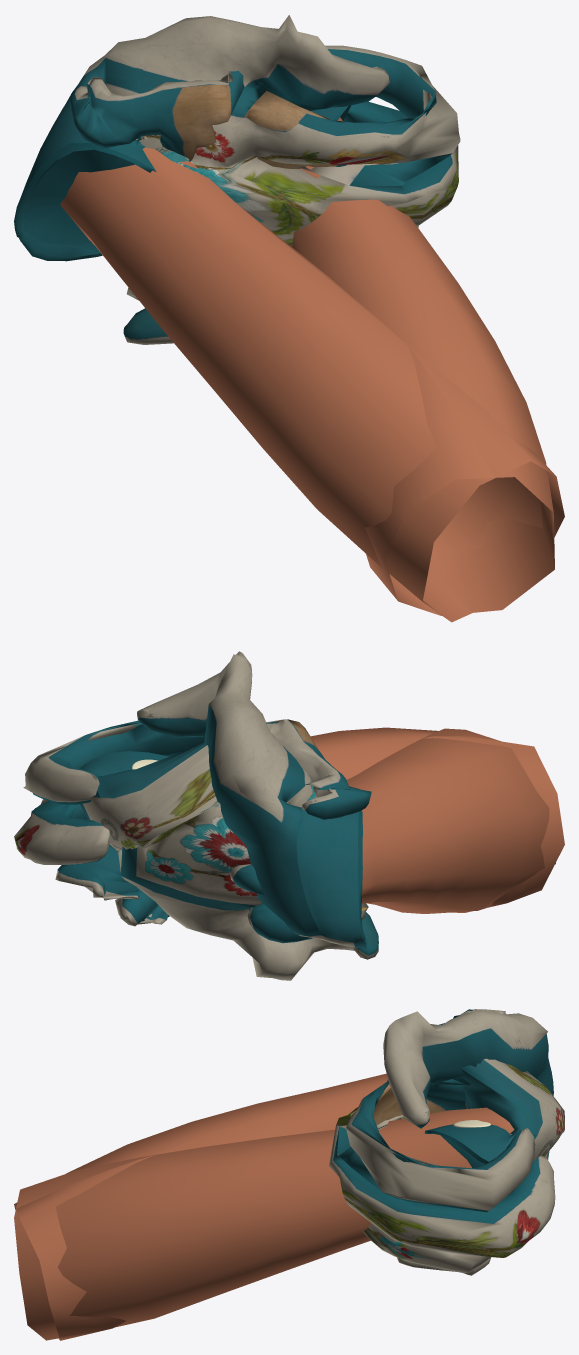
The model's file is maos_volante.glb.
3 renders of one model, top to bottom at view 1: azimuth 30°, elevation 25°; view 2: azimuth 150°, elevation 25°; view 3: azimuth 270°, elevation 25°, orthographic. The views are drawn at different scales.
Visible parts, largest first — view 1: MaoEsq, MaoDir; view 2: MaoEsq, MaoDir; view 3: MaoDir, MaoEsq.
Part boxes in pixels (<box>): MaoEsq: <box>14,15,564,622</box>; MaoDir: <box>70,68,554,615</box>; MaoEsq: <box>14,651,555,948</box>; MaoDir: <box>79,719,564,980</box>; MaoDir: <box>14,1009,564,1340</box>; MaoEsq: <box>14,1011,555,1340</box>.
Size of the model in its own units: 0.1529 by 0.1548 by 0.2296.
2 materials, 2 textured.
